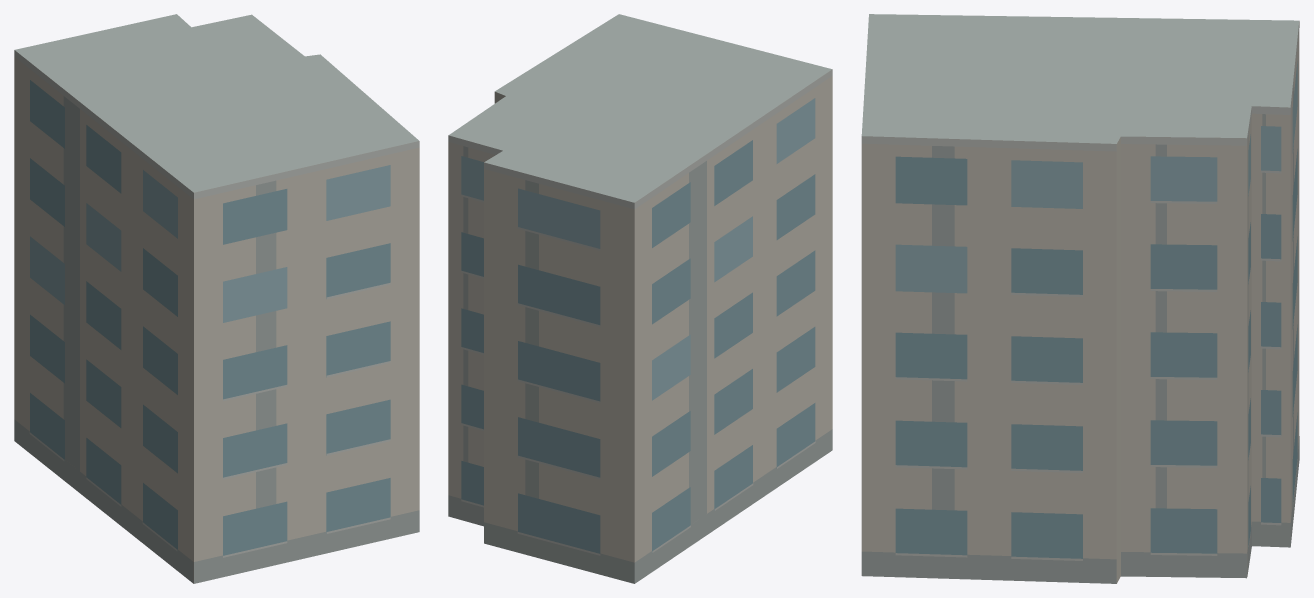
Rendered from survey-upis-32690024.glb.
3 views of the same model, side by side, from view 1: azimuth 30°, elevation 25°; view 2: azimuth 150°, elevation 25°; view 3: azimuth 270°, elevation 25° (orthographic). The views are drawn at different scales.
Parts seen in each view (by area): view 1: survey-upis-32690024.tmp; view 2: survey-upis-32690024.tmp; view 3: survey-upis-32690024.tmp.
Part boxes in pixels (bbox=[...]): survey-upis-32690024.tmp: bbox=[14, 14, 419, 583]; survey-upis-32690024.tmp: bbox=[448, 14, 832, 583]; survey-upis-32690024.tmp: bbox=[861, 14, 1299, 583].
Size of the model in its own units: 9.01 by 14.2 by 12.81.
